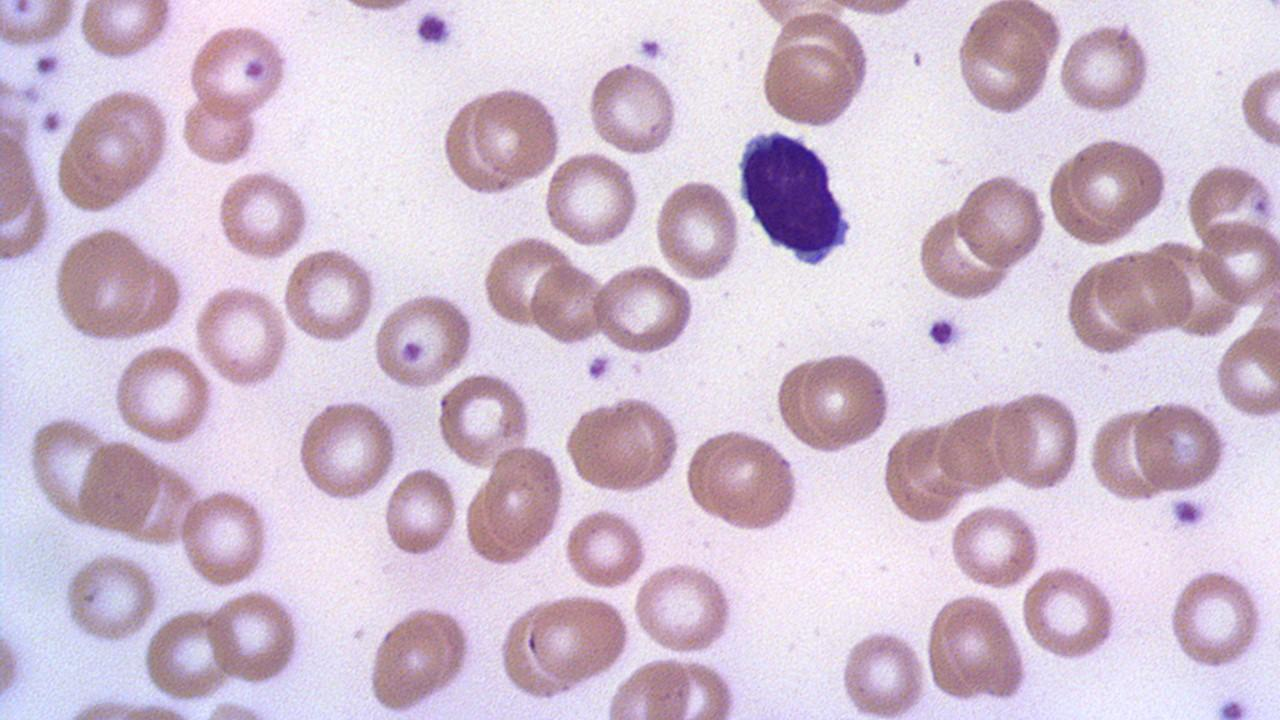Platelets: (411, 6, 458, 52), (924, 314, 964, 350), (1168, 495, 1208, 529)
RBC: (50, 225, 161, 344), (365, 602, 476, 713), (564, 394, 684, 496), (67, 86, 172, 202), (294, 396, 400, 506), (185, 22, 291, 124), (370, 290, 476, 391), (191, 282, 291, 388), (112, 343, 214, 446), (954, 14, 1053, 119), (701, 432, 801, 534), (1166, 568, 1264, 672), (204, 587, 306, 686), (590, 262, 697, 356), (1019, 564, 1119, 664), (434, 371, 534, 471), (542, 149, 640, 250), (1067, 134, 1169, 231), (527, 590, 632, 684), (915, 203, 1012, 304), (280, 246, 377, 347), (178, 486, 273, 589), (632, 560, 736, 654), (1055, 19, 1153, 118), (800, 348, 894, 451), (25, 414, 111, 526), (60, 550, 161, 645), (653, 175, 741, 284), (757, 38, 861, 130), (585, 58, 682, 156), (1132, 397, 1228, 496), (954, 170, 1047, 270), (470, 83, 562, 184), (943, 594, 1029, 702), (994, 387, 1082, 492), (216, 168, 312, 264), (935, 396, 1029, 494), (1095, 248, 1197, 338), (480, 233, 573, 330), (483, 444, 564, 555), (1183, 160, 1279, 253), (143, 604, 234, 702), (75, 438, 162, 540), (837, 622, 928, 719), (440, 90, 520, 200), (947, 500, 1041, 592), (117, 446, 202, 546), (1088, 406, 1166, 504), (382, 463, 460, 559), (1195, 219, 1279, 308), (562, 505, 647, 591), (528, 261, 608, 347), (75, 1, 177, 64), (1214, 326, 1280, 420), (602, 654, 696, 717), (179, 95, 260, 168), (773, 355, 834, 451), (1, 174, 52, 261), (0, 122, 39, 228), (1, 1, 80, 53), (1238, 61, 1280, 154), (0, 611, 26, 712)
WBC: (735, 124, 858, 268)
